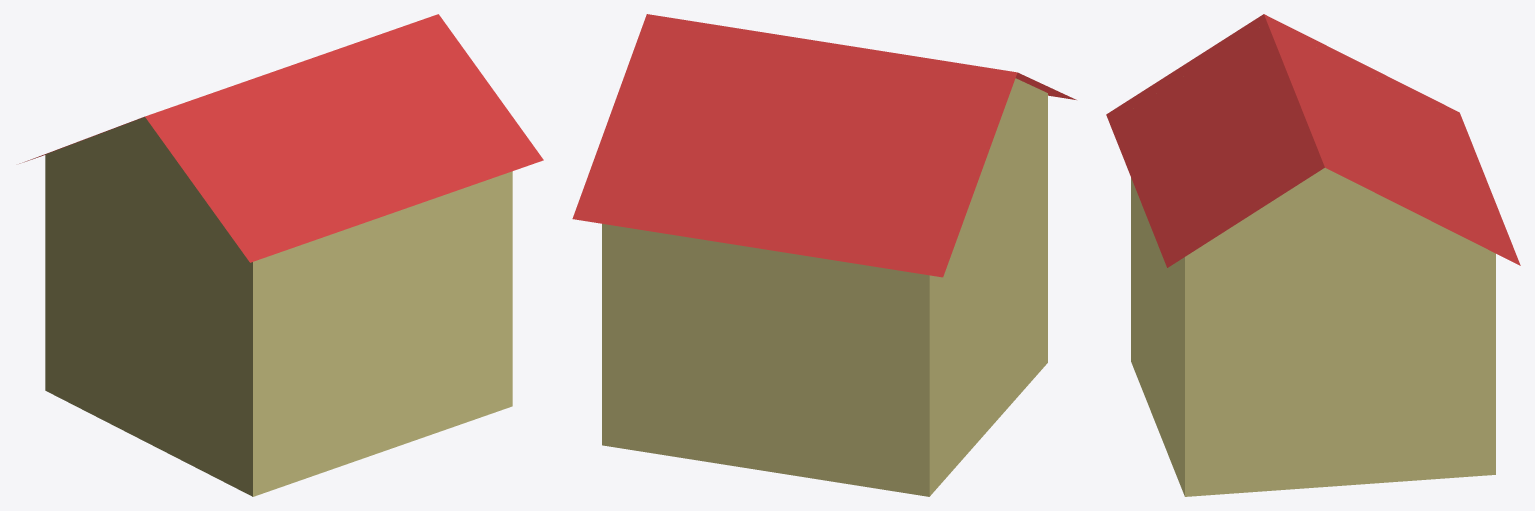
3 views of the same model, side by side, from view 1: azimuth 30°, elevation 25°; view 2: azimuth 150°, elevation 25°; view 3: azimuth 270°, elevation 25° (orthographic). The views are drawn at different scales.
Size of the model in its own units: 14.71 by 14.42 by 12.61.
